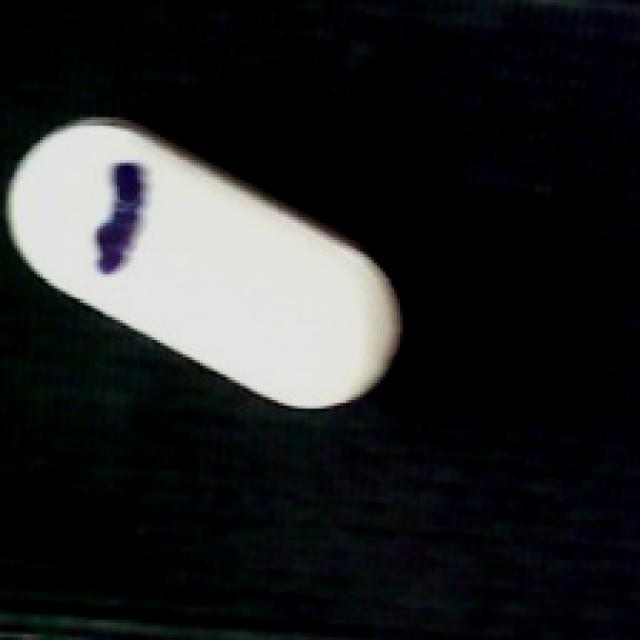defected: (3, 117, 414, 414)
